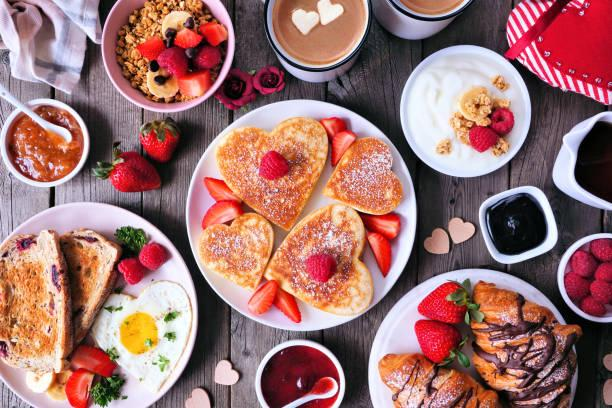Braised Crucian Carp: (185, 98, 409, 331), (2, 201, 200, 408), (367, 268, 575, 407), (400, 44, 529, 178), (101, 0, 233, 113)
